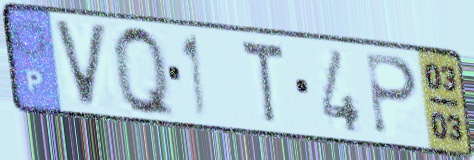1: (179, 31, 209, 123)
4: (318, 46, 364, 136)
P: (363, 50, 421, 139)
Q: (110, 21, 180, 123)
T: (238, 36, 287, 129)
V: (50, 16, 111, 112)
